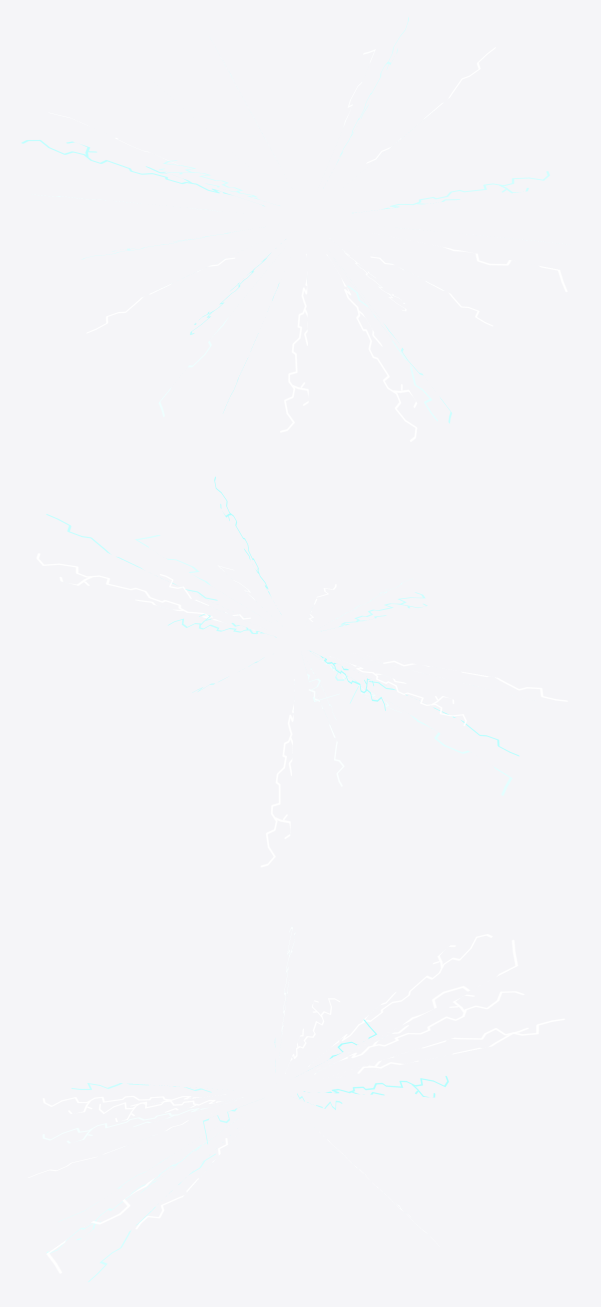
Rendered from bolts-top.glb.
3 views of the same model, one above another, from view 1: azimuth 30°, elevation 25°; view 2: azimuth 150°, elevation 25°; view 3: azimuth 270°, elevation 25° (orthographic). The views are drawn at different scales.
Parts seen in each view (by area): view 1: elec; view 2: elec; view 3: elec.
Boxes of the visible parts, <box> form: elec: <box>21,17,567,441</box>; elec: <box>36,476,567,867</box>; elec: <box>28,927,564,1281</box>.
Bounding box in the file's own units: 26.62 × 15.04 × 25.18.
Materials: 1 (1 with a texture image).
